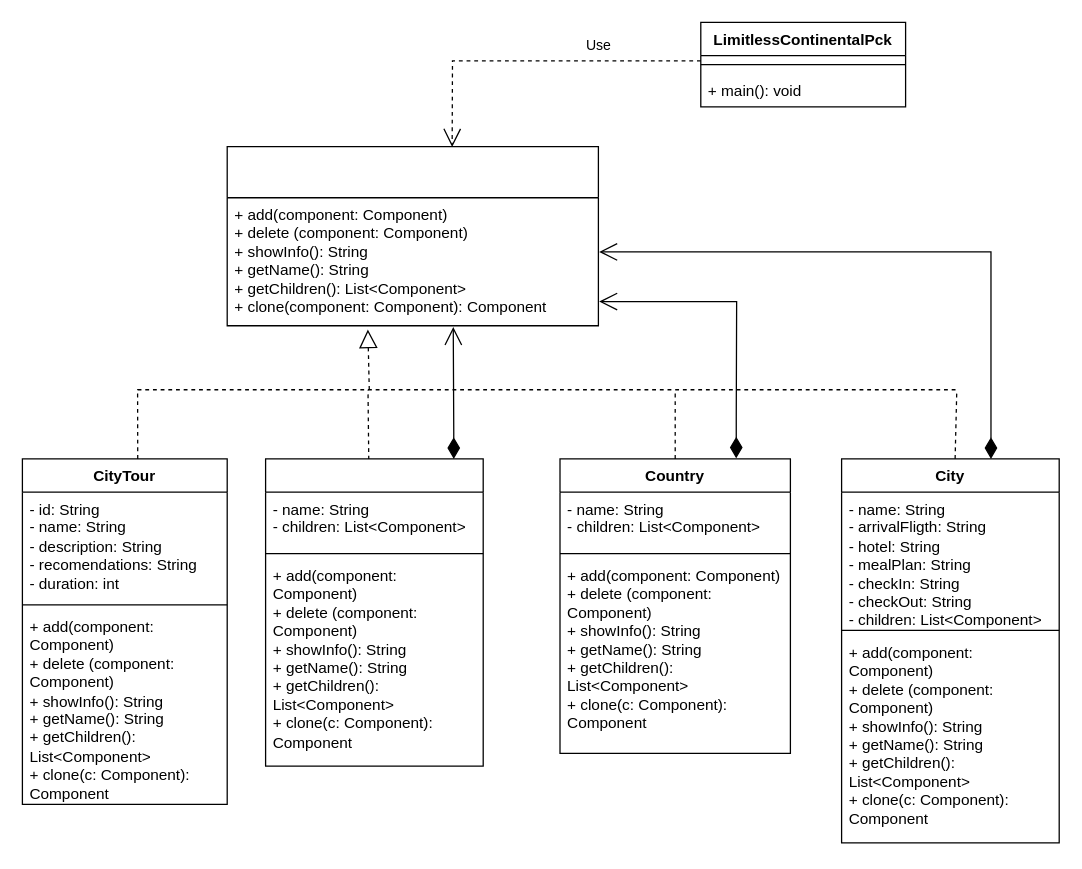
Some shapes in this 1082 by 869 pixel diagram are drawn without their labels. Each missing label, with the box of its shape:
<<Interfaz>> Componente: (226, 145, 598, 326)
Continent: (264, 458, 483, 766)
